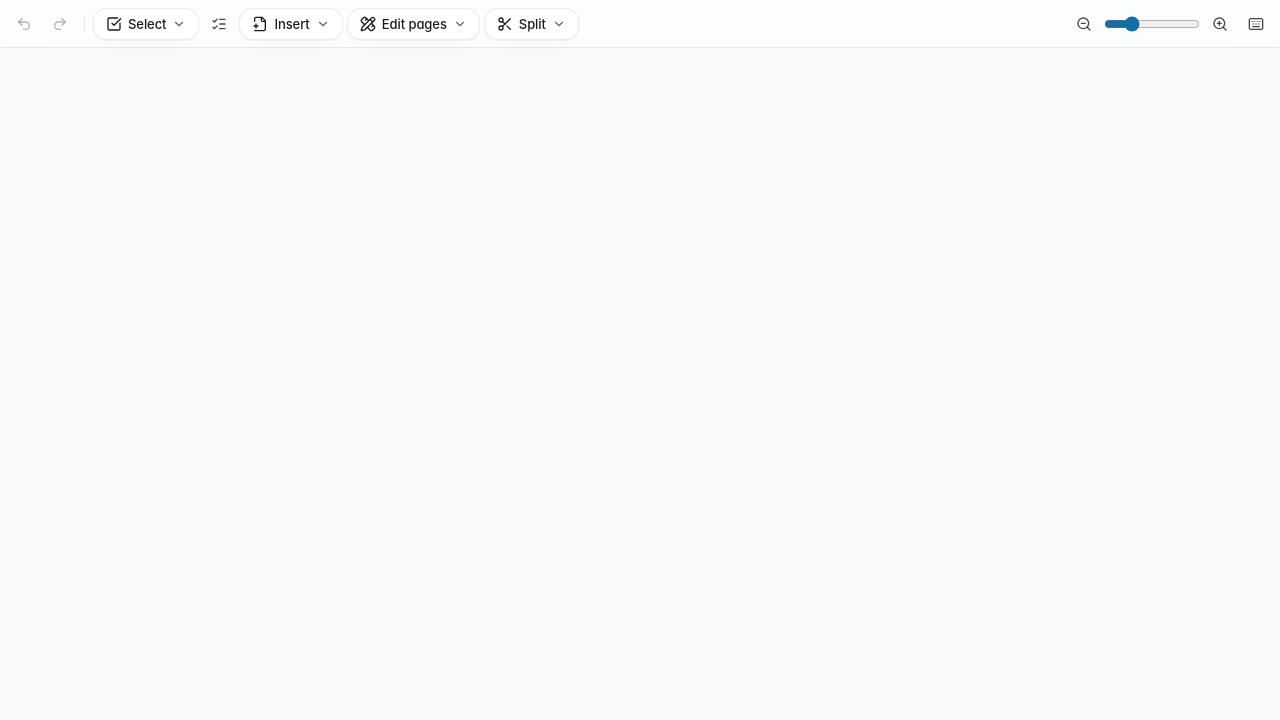
OrganizerToolbar › selects pages by orientation and by paper size from the known page sizes
Click the button "Select": (146, 24) x1=93 y1=8 x2=200 y2=40
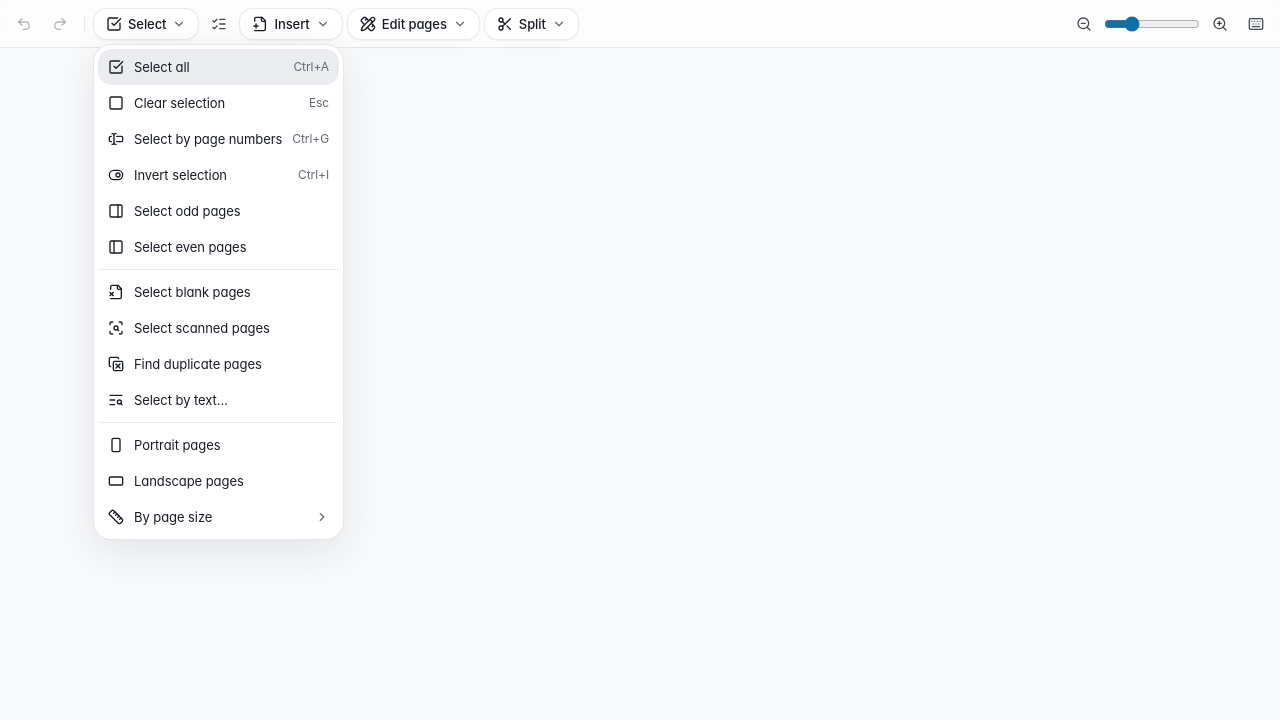
Click the menu item "Landscape pages": (219, 480) x1=98 y1=462 x2=339 y2=498
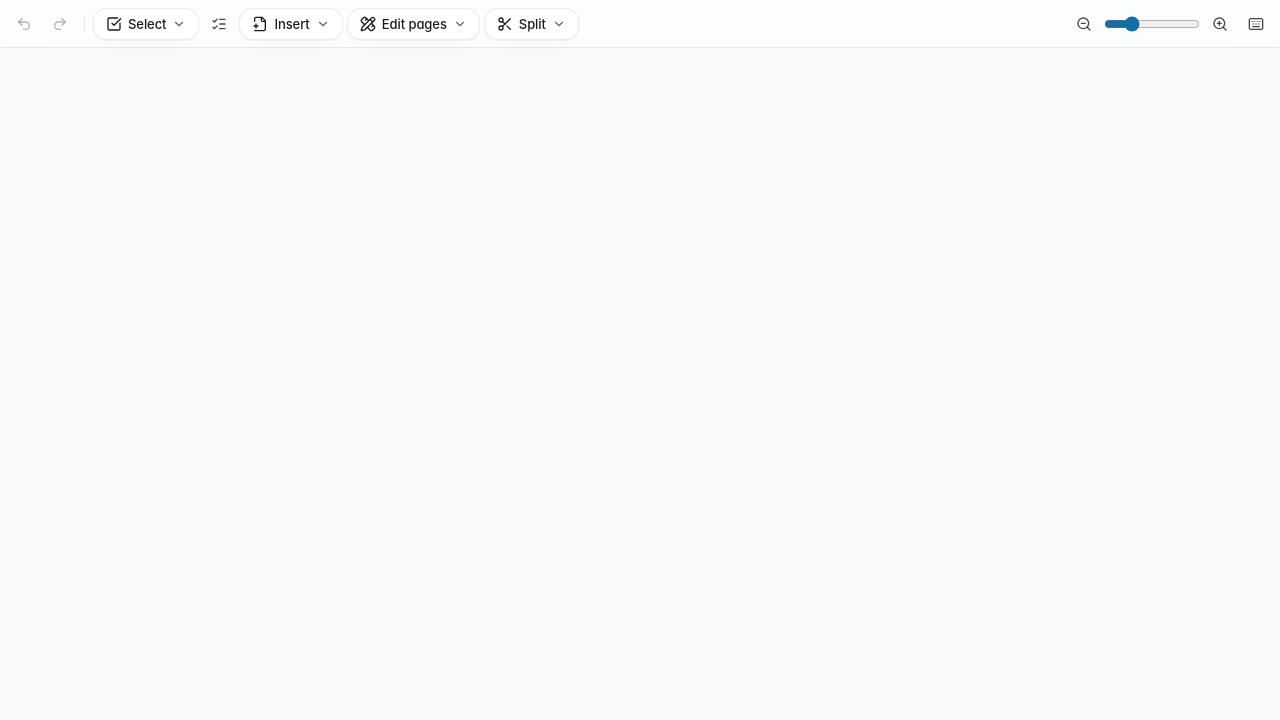
Click the button "Select": (146, 24) x1=93 y1=8 x2=200 y2=40
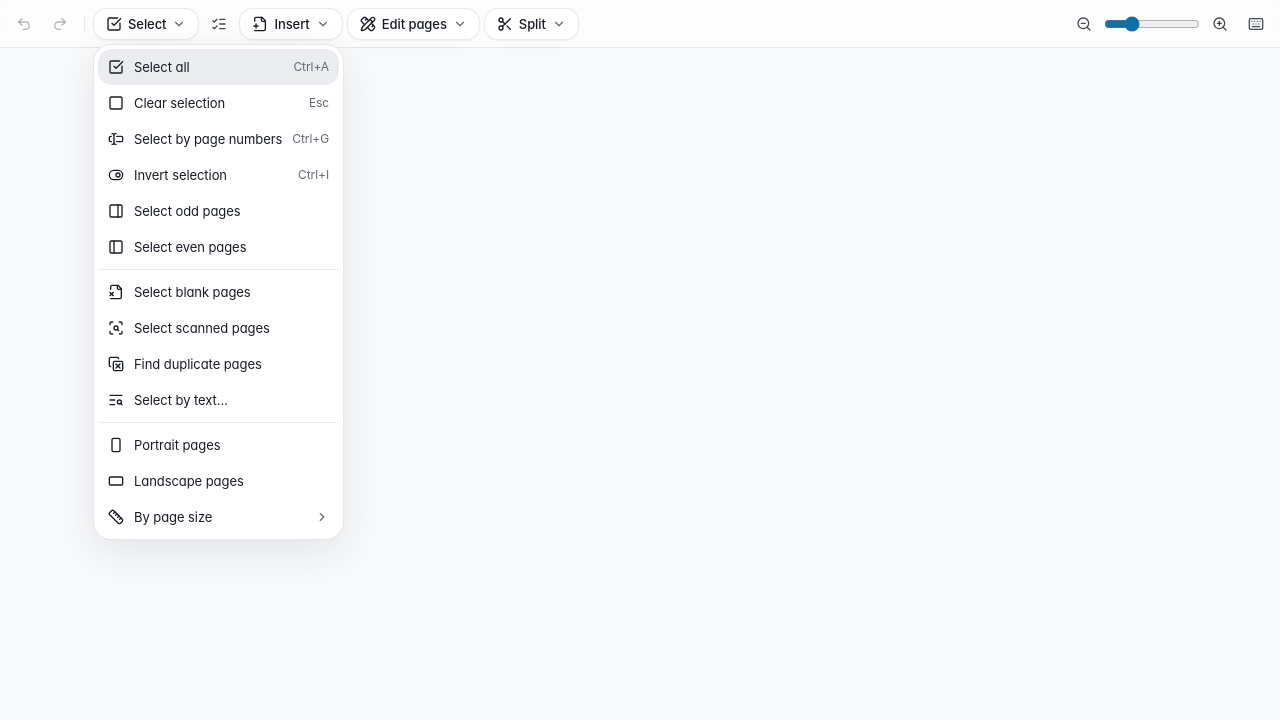
Click the menu item "By page size": (219, 516) x1=98 y1=498 x2=339 y2=534
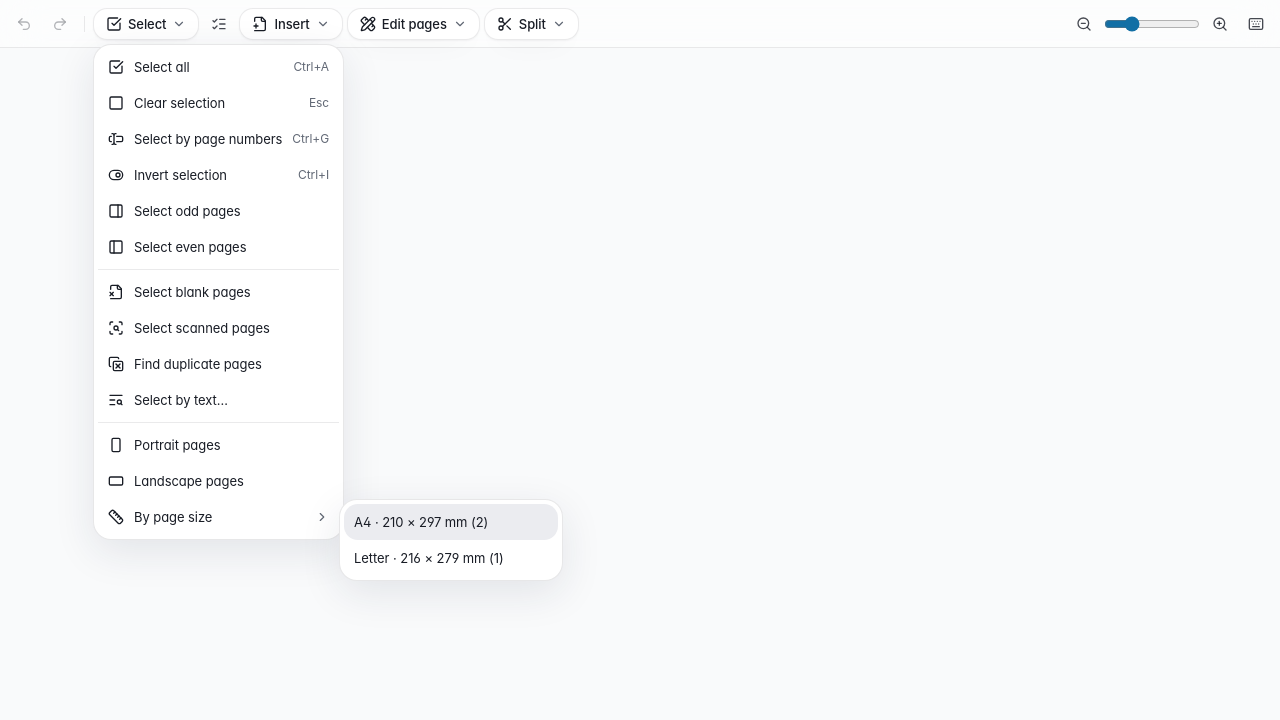
Click the menu item "A4 · 210 × 297 mm (2)": (451, 522) x1=344 y1=504 x2=558 y2=540
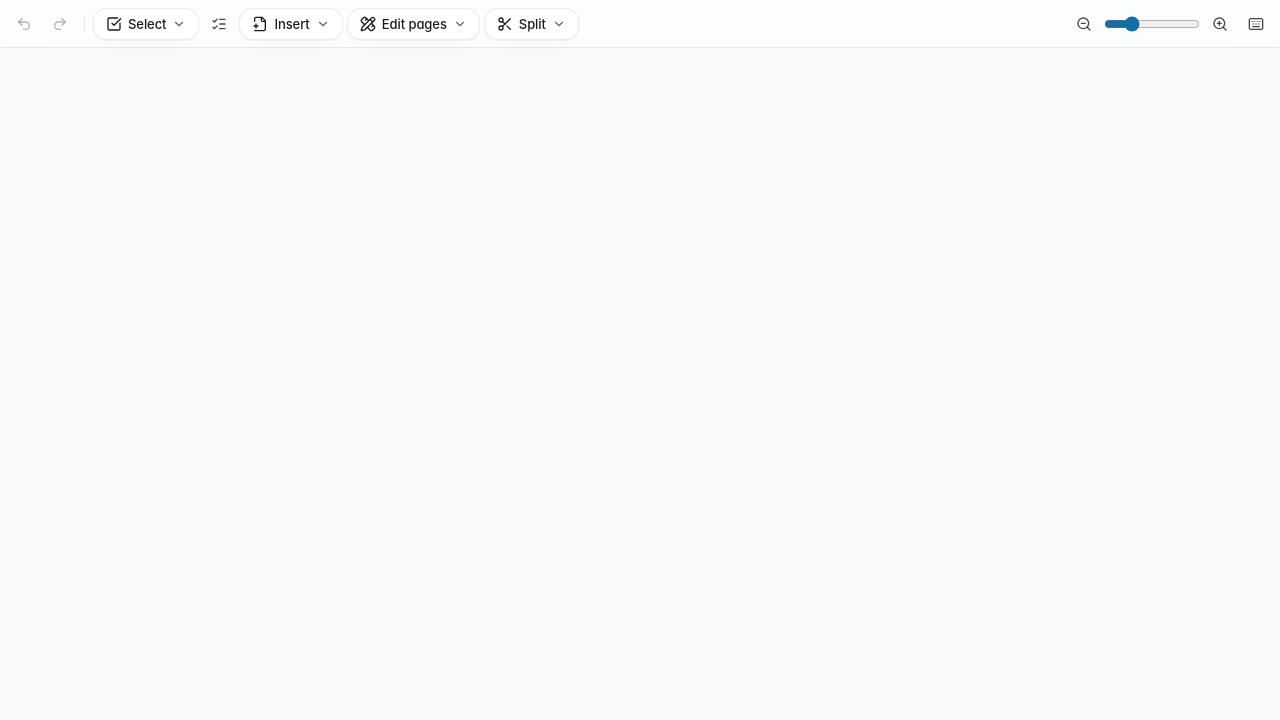
expect the menu item "Letter" is gone: met
